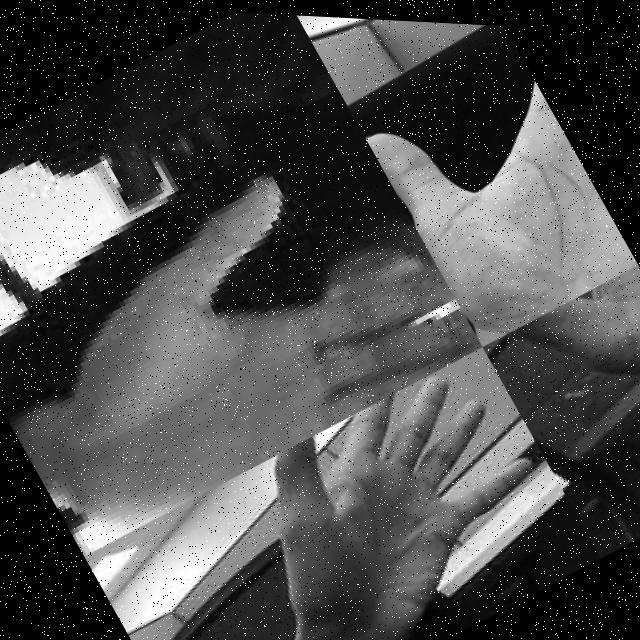no-gloves: (0, 97, 482, 547), (226, 339, 584, 640), (338, 14, 638, 347), (482, 252, 640, 537)
